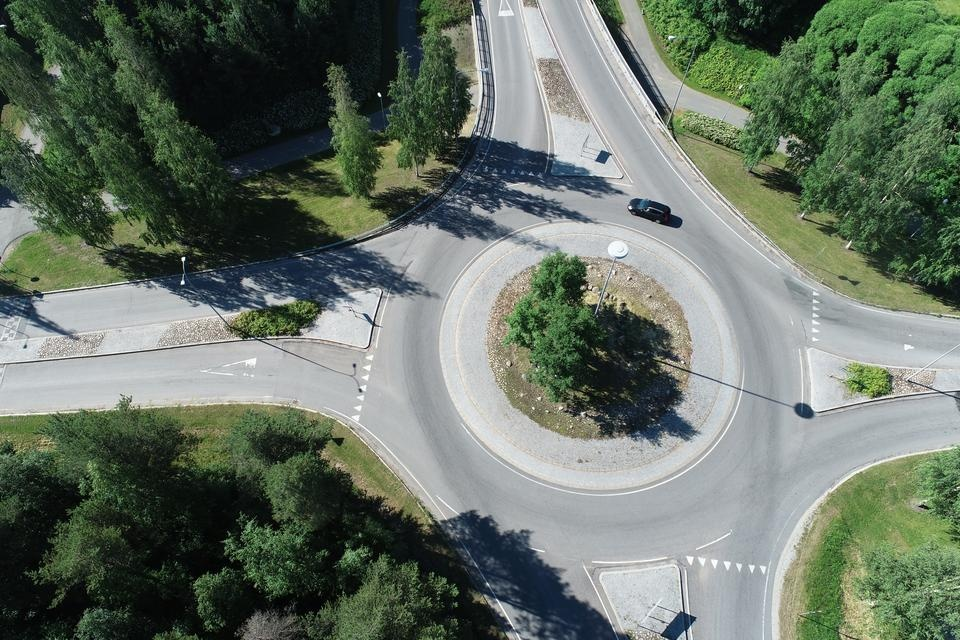roundabout: (323, 163, 879, 615)
